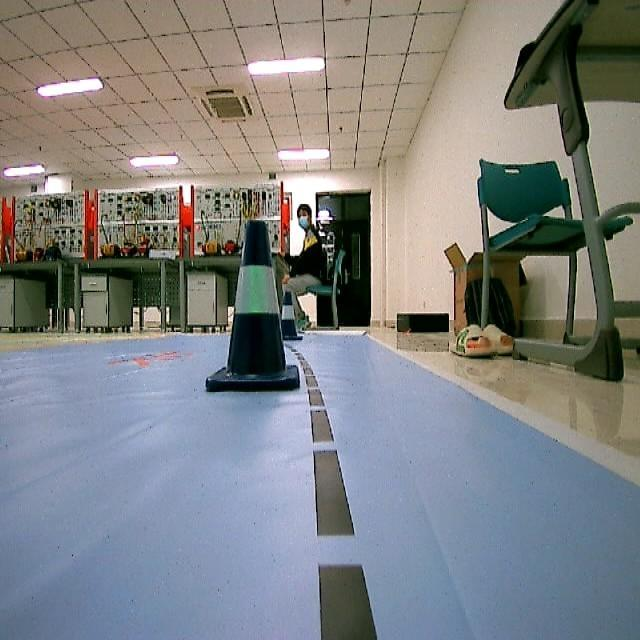obstacle: (204, 216, 298, 398)
